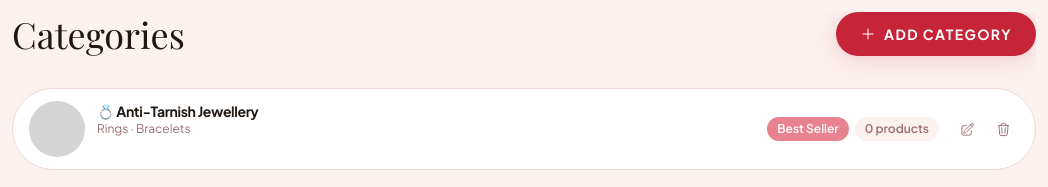
Test: CategoryManager › deletes an unused category after confirming
Click the button named "Delete Anti-Tarnish Jewellery": (1003, 129) [987,113,1019,145]
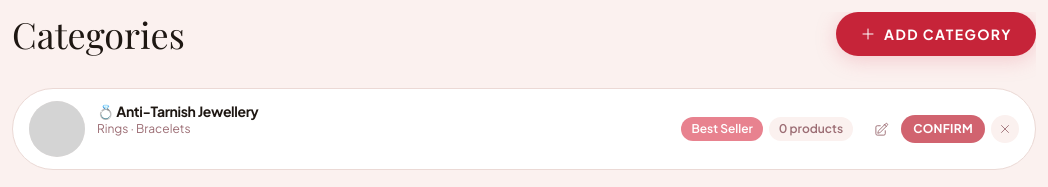
Click the button "Confirm": (943, 129) [901,115,985,143]
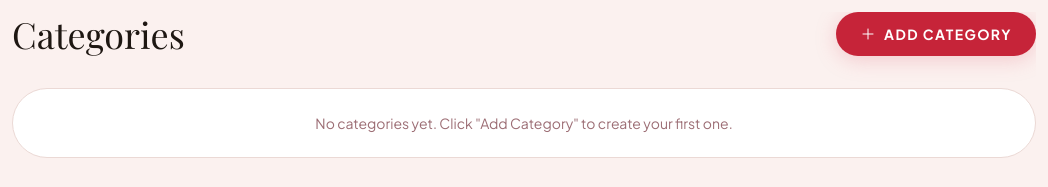
Result: the text "Anti-Tarnish Jewellery" is gone
